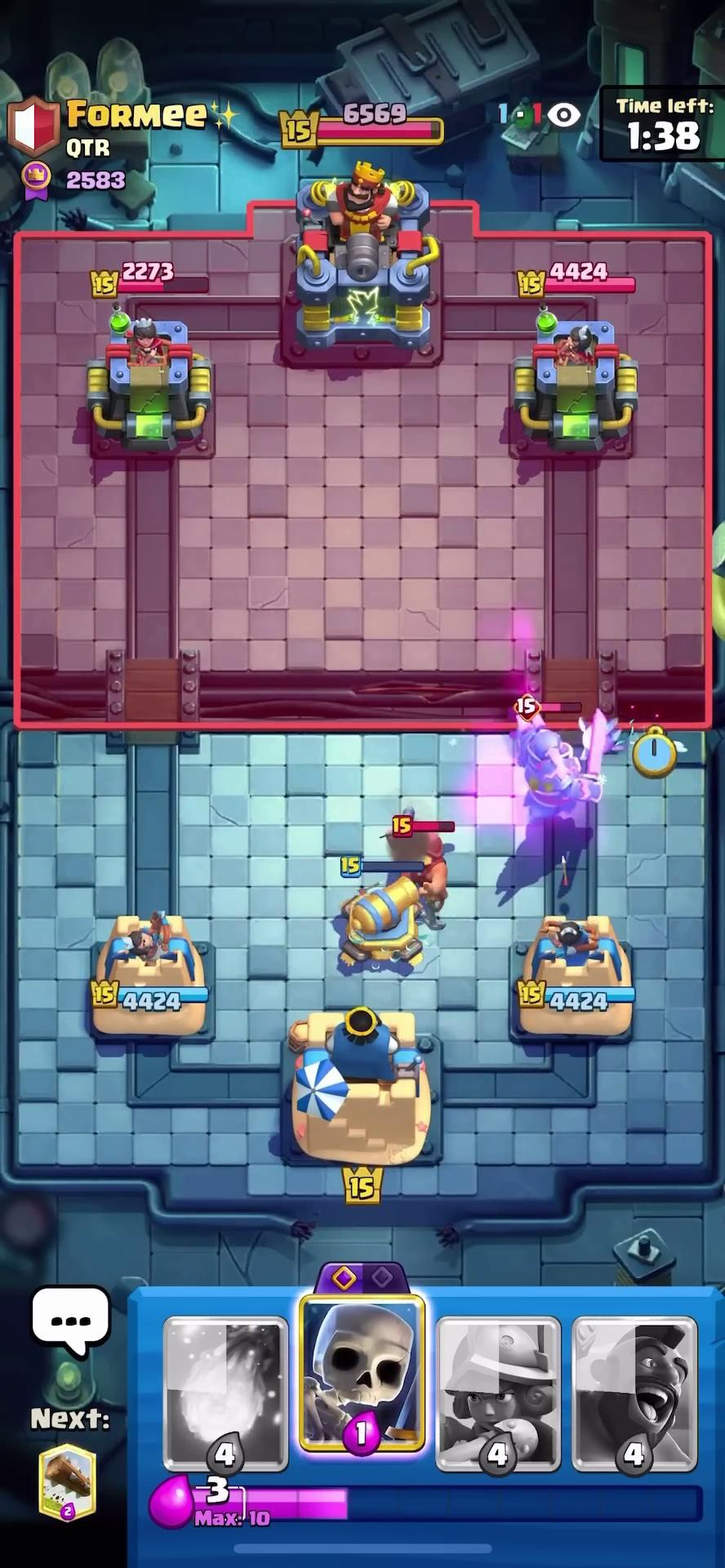cannon: (341, 858, 433, 968)
